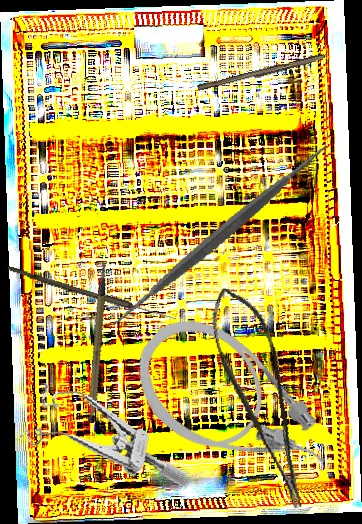Cannula: (115, 297, 348, 518)
Micro Scissor: (202, 280, 311, 518)
Scalpel Handle: (66, 261, 133, 425), (196, 51, 327, 95)
Spatula Surgical: (99, 112, 340, 359)
Speculum: (16, 380, 199, 487)
Surgical Spoon: (6, 266, 177, 322)
